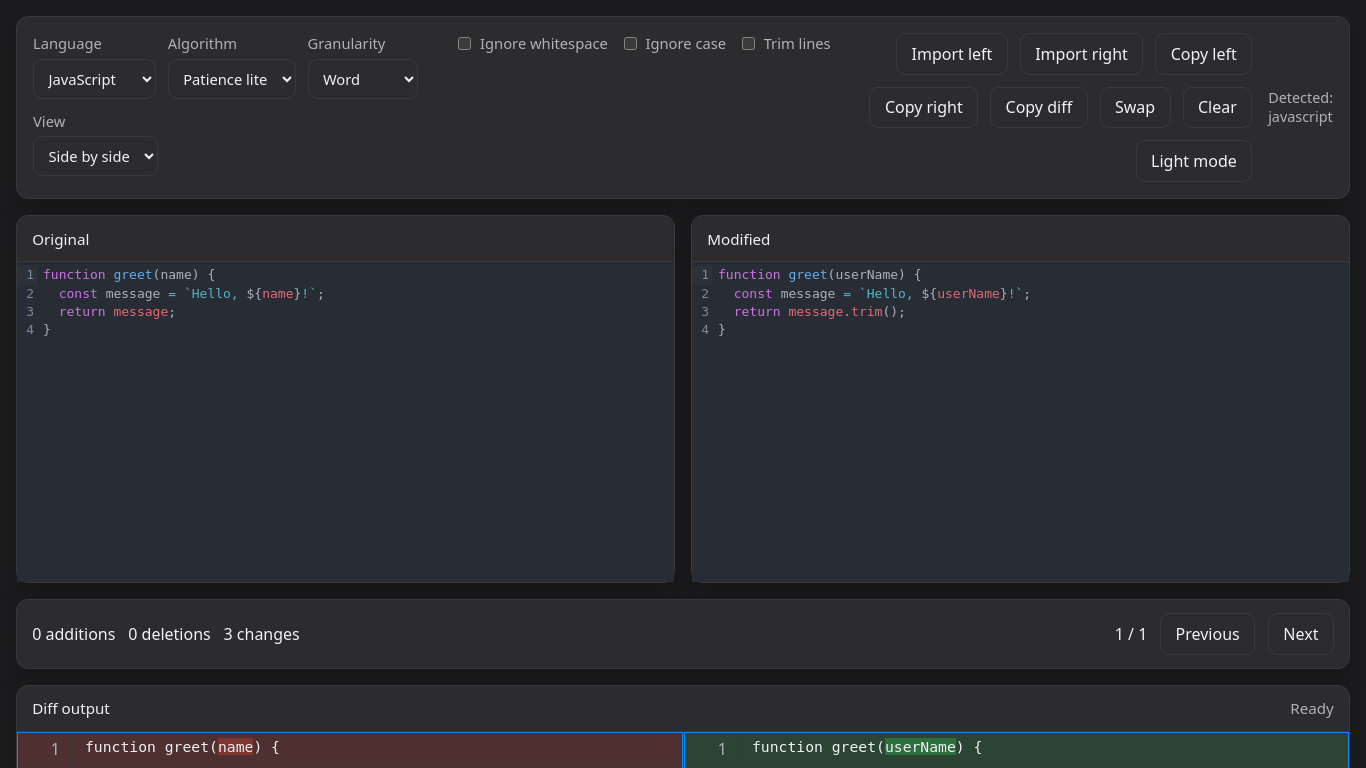
App › copies unified diff output
Step 1. Click the button "Copy diff" → (1039, 107), box [990, 87, 1088, 128]
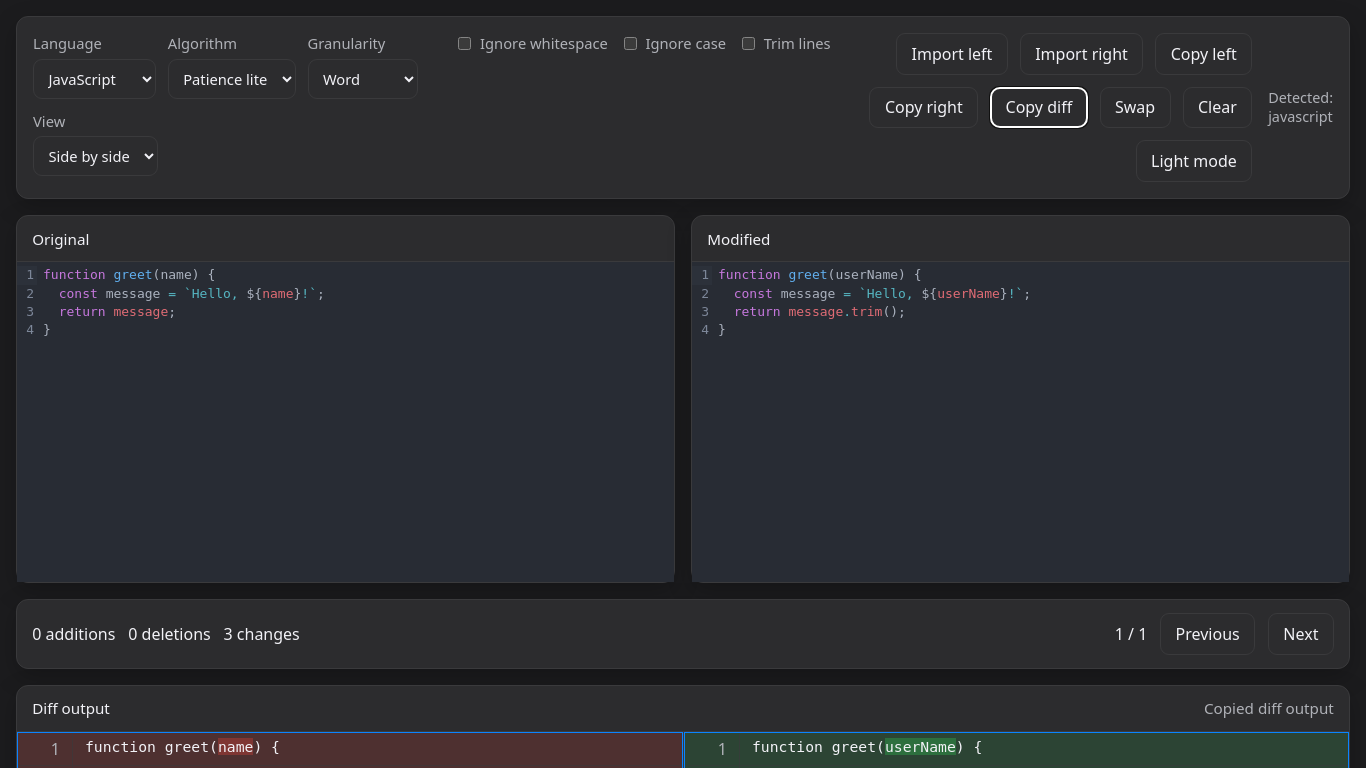
Expected: the text "Copied diff output" is shown, [1204, 698, 1334, 718]
